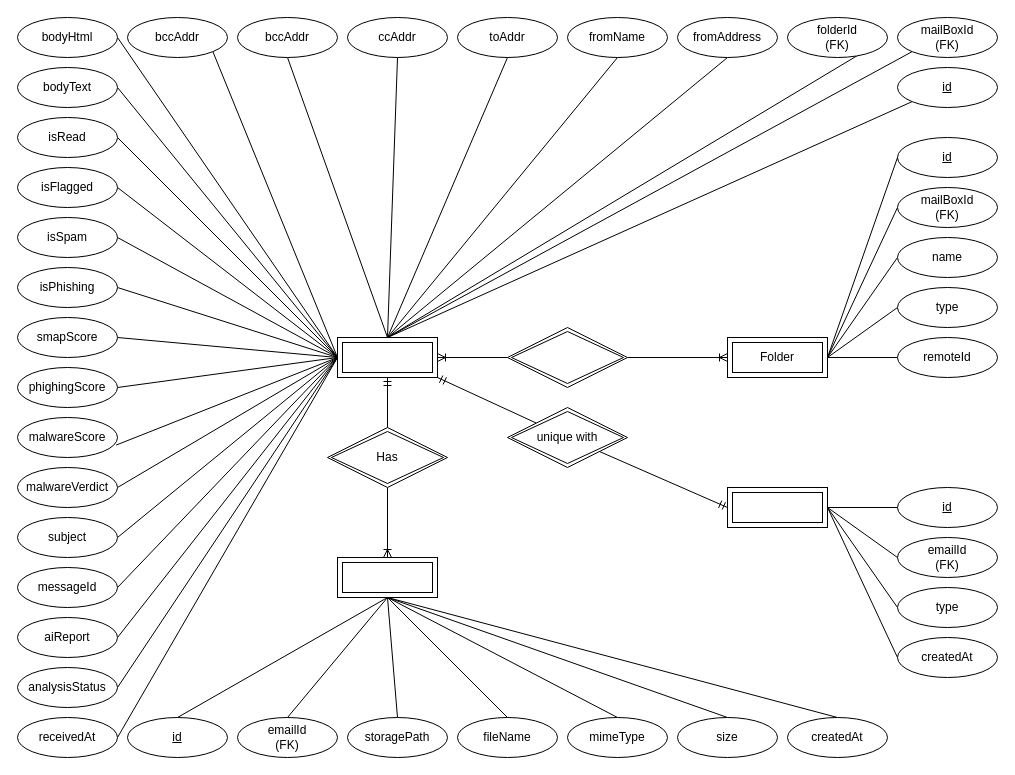
Image size: 1015x775. Some labels were removed from this diagram. The shapes that lost their labels are listed below. From the top down, each one's centre as x and y in pixels, then its label:
(387,357): Email
(567,357): Classify under
(777,507): EmailFlag
(387,577): Attachment
